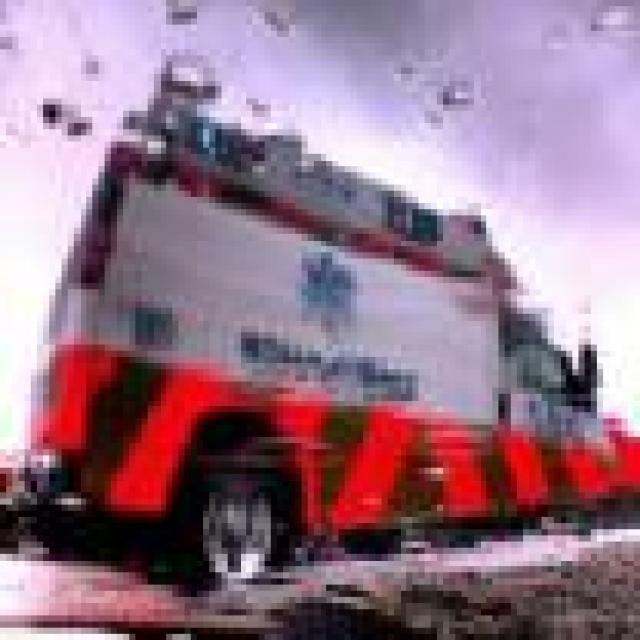emergency-vehicle: (18, 70, 616, 612)
